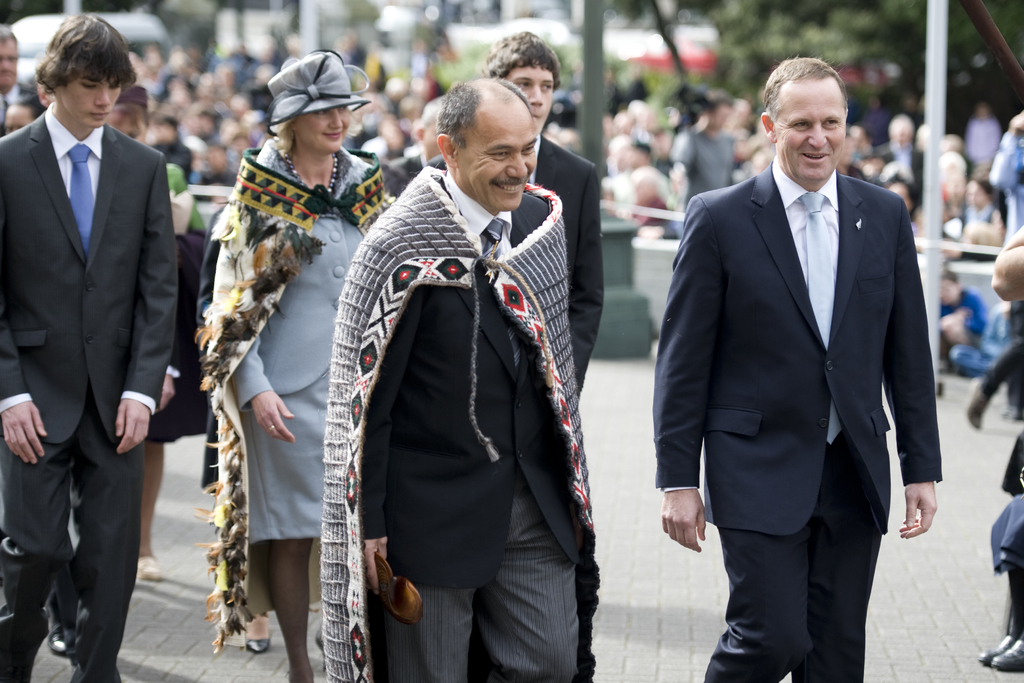Person: (0, 13, 1023, 683)
